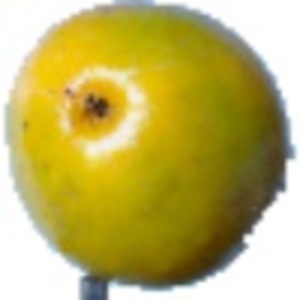maracujá: (2, 1, 300, 300)
